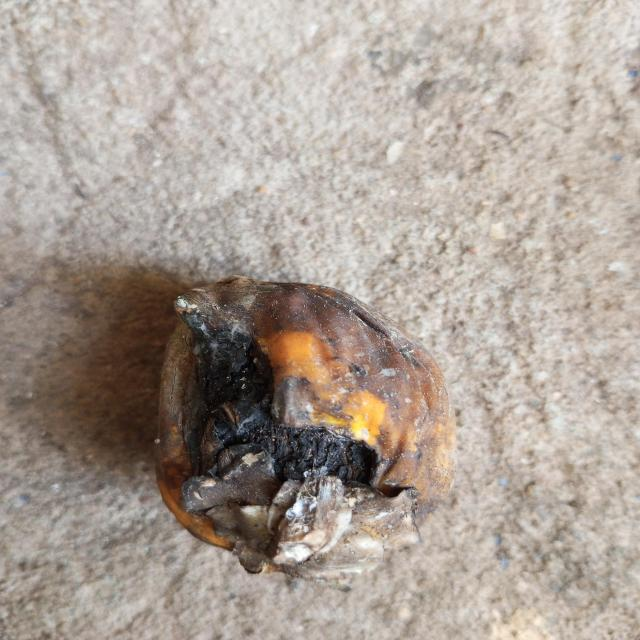damaged: (154, 278, 458, 576)
